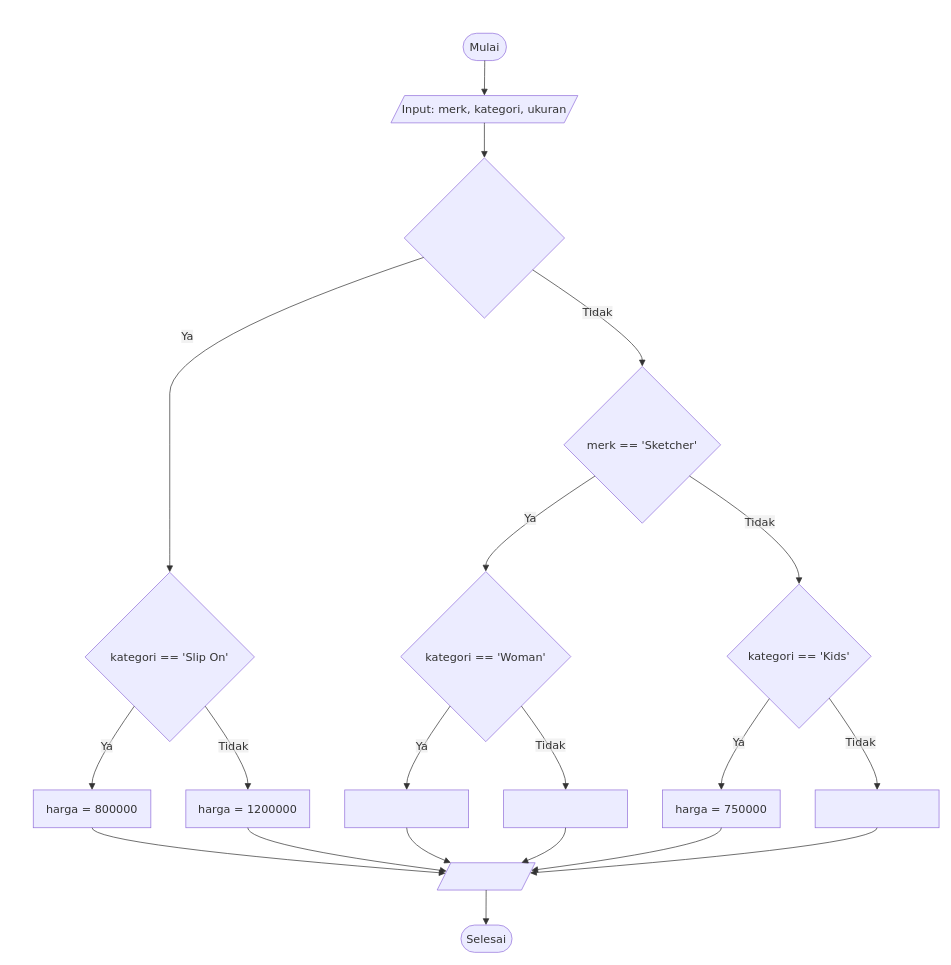
The diagram is 951 pixels wide and 965 high, and some of its shapes have lost their labels. Here are the shapes that lost their labels. From the top down, the centre of each, then its label:
At [484,237]: "merk == 'Converse'".
At [406,808]: "harga = 1000000".
At [565,808]: "harga = 1800000".
At [876,808]: "harga = 1500000".
At [485,876]: "Cetak harga".
